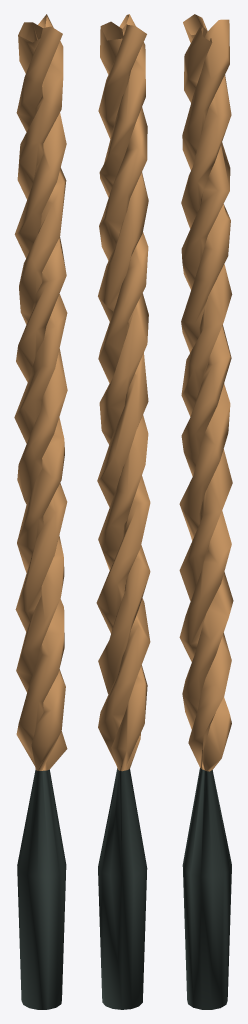
Rendered from rope.fbx.
3 views of the same model, side by side, from view 1: azimuth 30°, elevation 25°; view 2: azimuth 150°, elevation 25°; view 3: azimuth 330°, elevation 25° (orthographic).
Visible parts, largest first — view 1: rope; view 2: rope; view 3: rope.
Boxes of the visible parts, bbox=[...] form: rope: bbox=[14, 14, 67, 1009]; rope: bbox=[96, 14, 150, 1009]; rope: bbox=[179, 14, 233, 1009].
Size of the model in its own units: 5.86 by 115 by 5.54.
